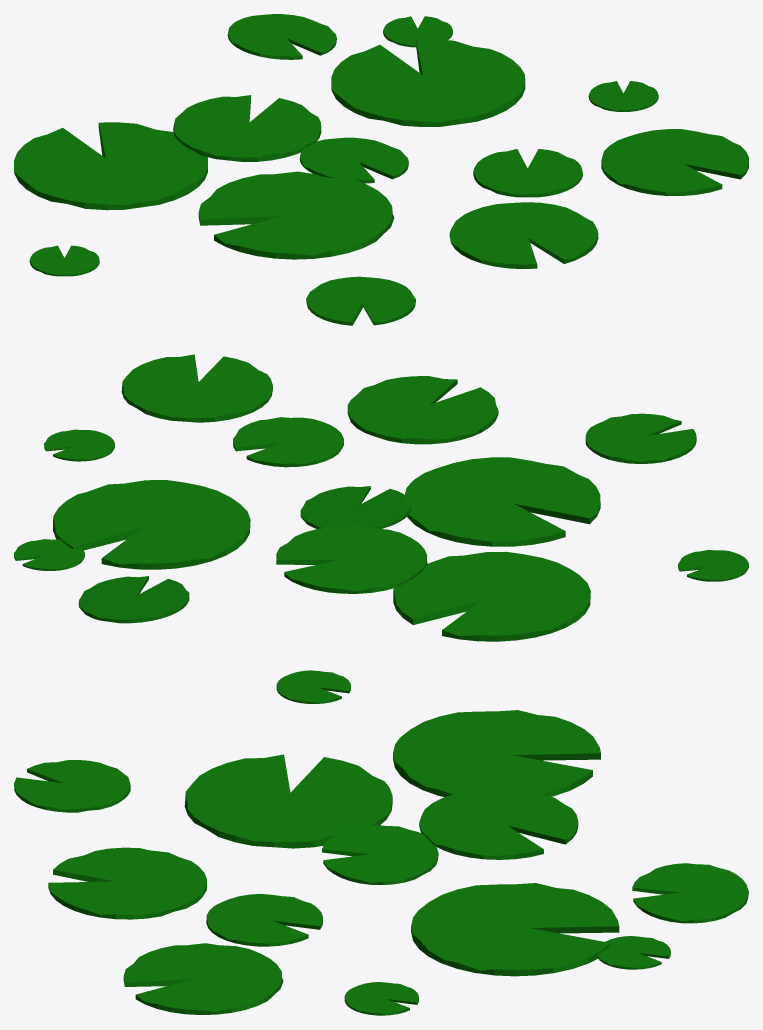
The model's file is Lillypads.fbx.
The picture shows the model from 3 angles, top to bottom: view 1: azimuth 30°, elevation 25°; view 2: azimuth 150°, elevation 25°; view 3: azimuth 270°, elevation 25°; orthographic projection. The views are drawn at different scales.
Parts seen in each view (by area): view 1: LilyPad.071; view 2: LilyPad.071; view 3: LilyPad.071.
Boxes of the visible parts, bbox=[...] form: LilyPad.071: bbox=[14, 14, 748, 325]; LilyPad.071: bbox=[14, 354, 748, 641]; LilyPad.071: bbox=[14, 670, 748, 1015].
Bounding box in the file's own units: 698 × 14.39 × 636.
